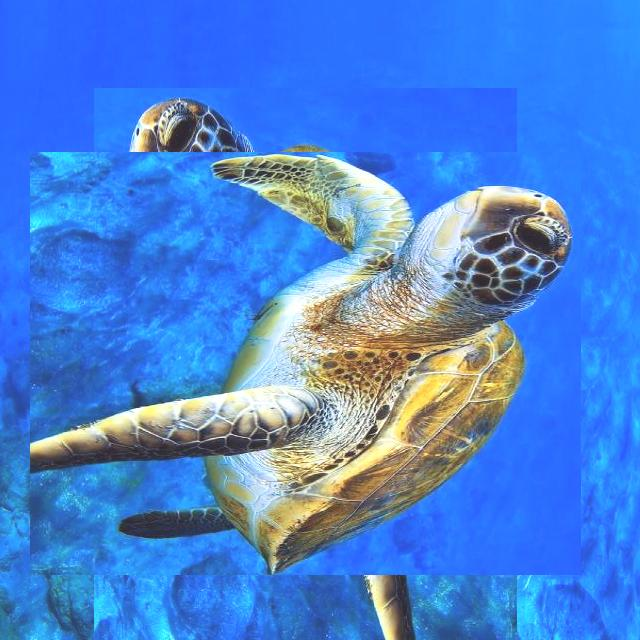Sea turtle: (62, 120, 549, 608)
